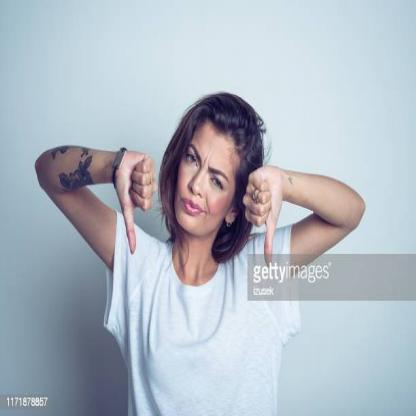thumb_down: (111, 142, 158, 258), (242, 162, 289, 266)
